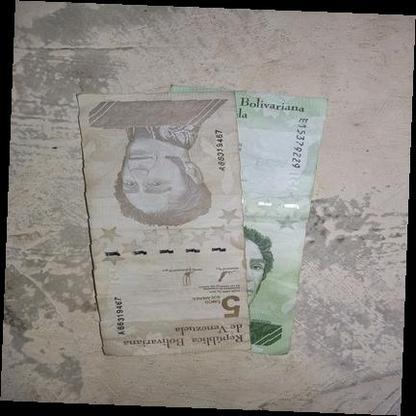vef_front: (170, 83, 328, 355)
